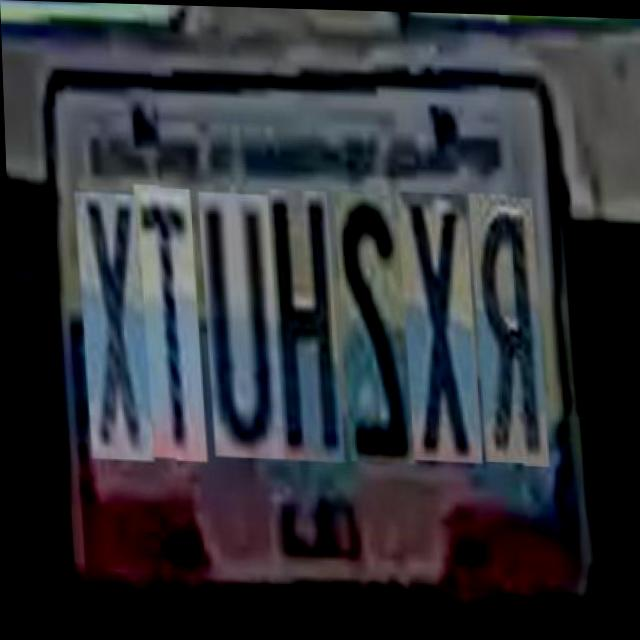2: (331, 191, 409, 463)
h: (262, 190, 339, 462)
r: (465, 190, 543, 463)
t: (131, 188, 202, 463)
u: (195, 193, 278, 460)
x: (392, 190, 477, 462), (73, 196, 148, 465)
